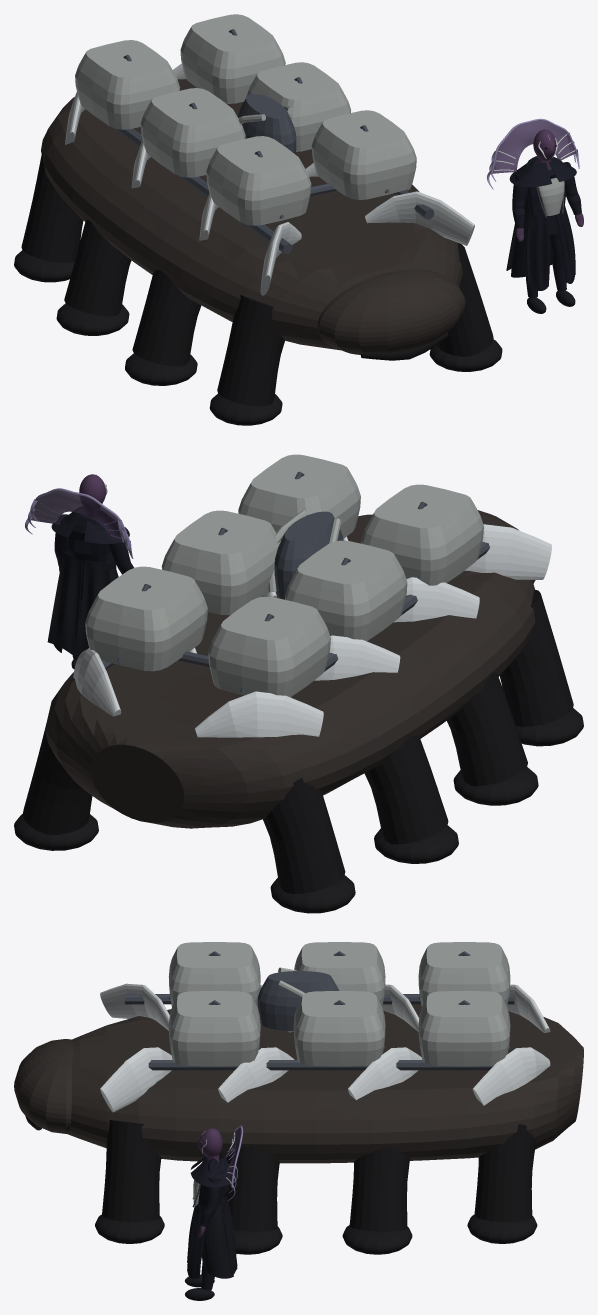
The model's file is Burdenbeast.obj.
3 views of the same model, one above another, from view 1: azimuth 30°, elevation 25°; view 2: azimuth 150°, elevation 25°; view 3: azimuth 270°, elevation 25° (orthographic). The views are drawn at different scales.
Parts seen in each view (by area): view 1: Tervan_Torso, Tervan_SensoryHood, CivicModule_Shelter_L, CivicModule_Shelter_R, CivicModule_Archive_L, CivicModule_Care_L, CivicModule_Archive_R, Tervan_Limb_L3, CivicModule_Care_R, Tervan_Limb_L2, Tervan_Limb_L1, Tervan_Limb_L0 (+21 smaller); view 2: Tervan_Torso, CivicModule_Archive_R, CivicModule_Archive_L, CivicModule_Care_L, CivicModule_Shelter_L, CivicModule_Care_R, CivicModule_Shelter_R, Tervan_Limb_L0, Tervan_Limb_L1, Tervan_Limb_L2, Tervan_Limb_L3, Tervan_SupportRidge_L0 (+15 smaller); view 3: Tervan_Torso, CivicModule_Care_R, CivicModule_Archive_R, CivicModule_Shelter_R, Tervan_Limb_R3, Tervan_Limb_R0, CivicModule_Archive_L, Tervan_SensoryHood, CivicModule_Shelter_L, Tervan_Limb_R1, Tervan_Limb_R2, CivicModule_Care_L (+20 smaller).
Boxes of the visible parts, x1,y1,x2,y2 form: Tervan_Torso: (41,79,462,350); Tervan_SensoryHood: (317,269,465,354); CivicModule_Shelter_L: (206,136,311,225); CivicModule_Shelter_R: (311,110,416,199); CivicModule_Archive_L: (75,40,179,129); CivicModule_Care_L: (140,88,245,177); CivicModule_Archive_R: (180,14,285,103); Tervan_Limb_L3: (217,294,284,406); CivicModule_Care_R: (247,62,351,151); Tervan_Limb_L2: (132,270,201,366); Tervan_Limb_L1: (64,219,131,316); Tervan_Limb_L0: (21,152,83,262); Tervan_Torso: (45,514,535,828); CivicModule_Archive_R: (85,566,207,671); CivicModule_Archive_L: (208,596,330,697); CivicModule_Care_L: (284,540,407,641); CivicModule_Shelter_L: (361,484,483,585); CivicModule_Care_R: (161,510,280,615); CivicModule_Shelter_R: (238,454,360,541); Tervan_Limb_L0: (263,778,345,893); Tervan_Limb_L1: (364,736,448,844); Tervan_Limb_L2: (447,672,527,786); Tervan_Limb_L3: (499,589,573,726); Tervan_SupportRidge_L0: (195,691,323,737); Tervan_Torso: (67,1004,583,1163); CivicModule_Care_R: (293,991,385,1066); CivicModule_Archive_R: (418,991,510,1066); CivicModule_Shelter_R: (168,991,260,1066); Tervan_Limb_R3: (102,1119,161,1221); Tervan_Limb_R0: (474,1124,535,1221); CivicModule_Archive_L: (418,942,510,1006); Tervan_SensoryHood: (14,1039,73,1133); CivicModule_Shelter_L: (168,942,260,1007); Tervan_Limb_R1: (349,1148,409,1231); Tervan_Limb_R2: (226,1146,279,1231); CivicModule_Care_L: (294,942,385,1006).
Size of the model in its own units: 4.87 by 2.34 by 5.71.
